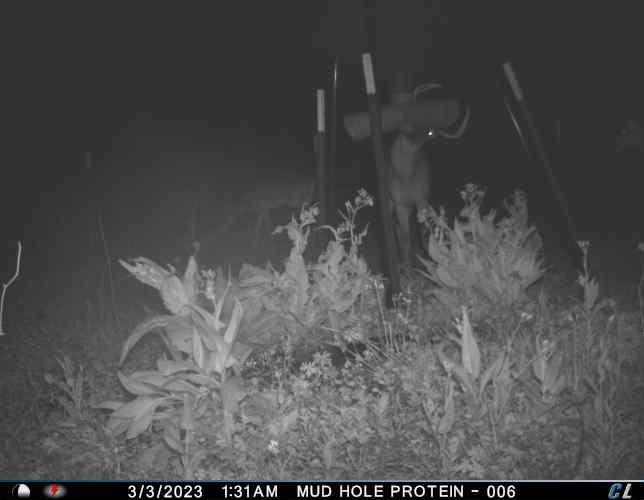Deer: (382, 81, 475, 276)
